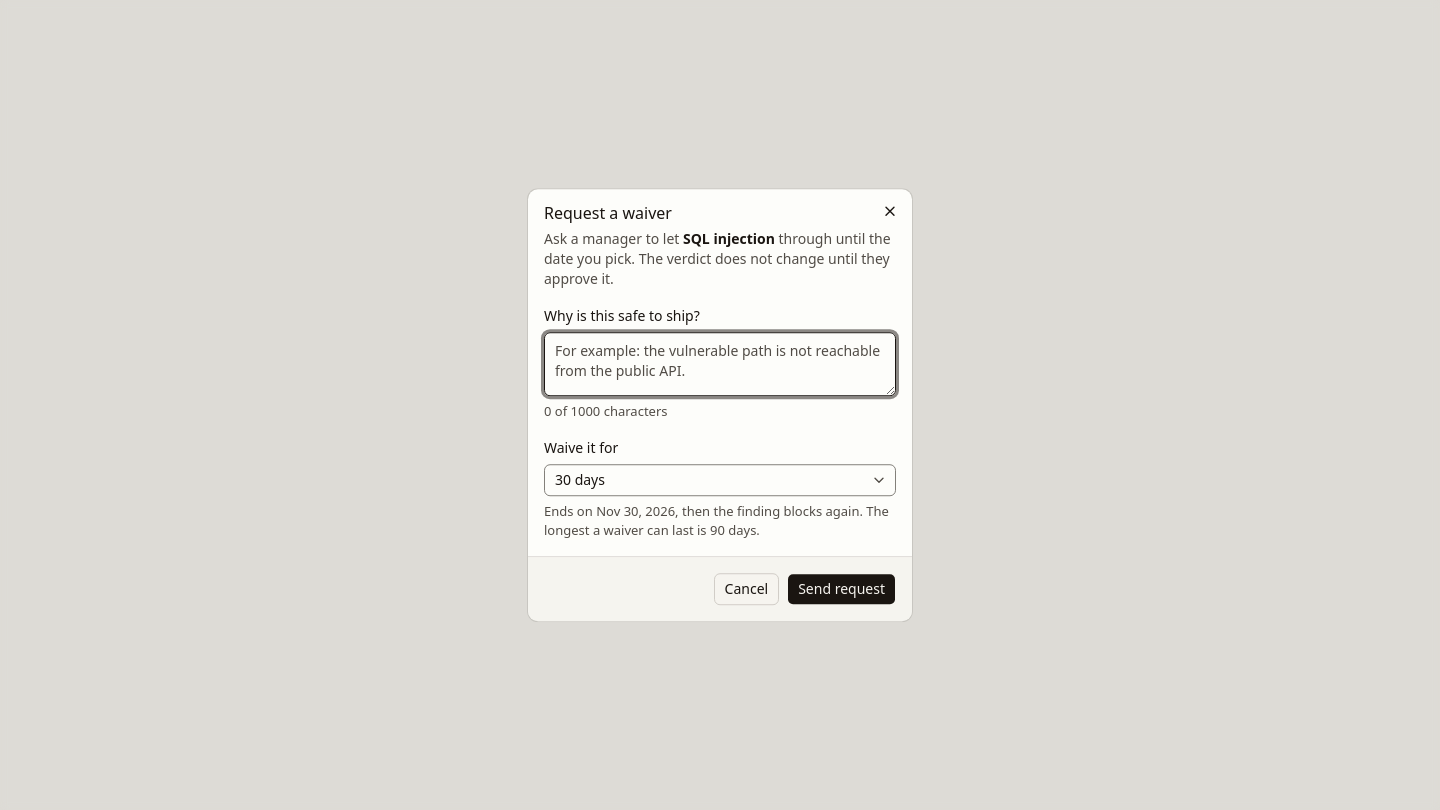
Test: WaiverRequestDialog limits › offers at most 90 days and says the longest a waiver can last
This screenshot has width=1440, height=810.
Expected: the text "The longest a waiver can last is 90 days" is shown, [544,502,896,540]
What coordinates should you click on to do the following:
click the dropdown named "Waive it for"
I would click on:
 (580, 480)
Its box is [544,464,896,496].
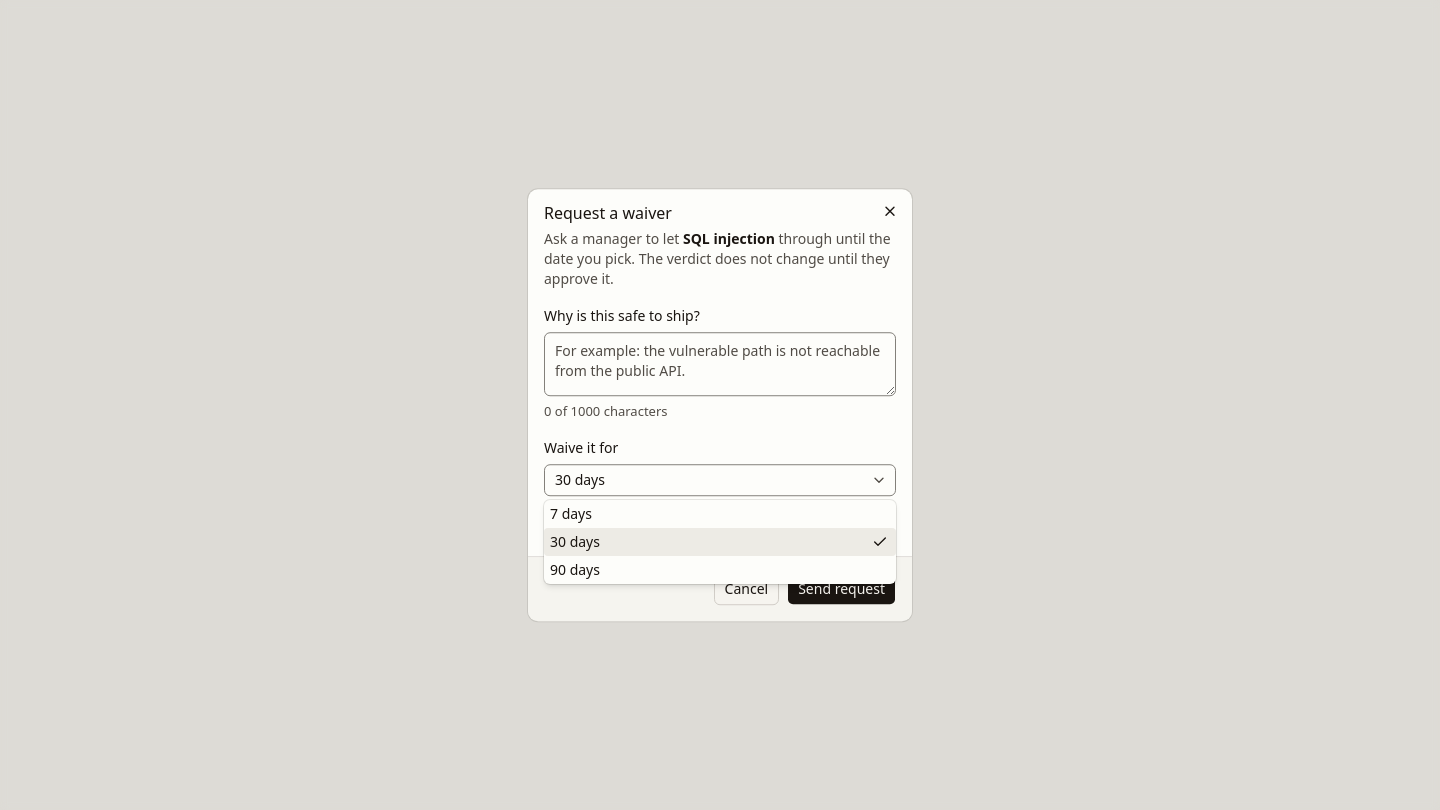
Expected: the options read "7 days", "30 days", "90 days", in this order, [550,504,592,523]; [544,528,896,556]; [550,560,600,579]
